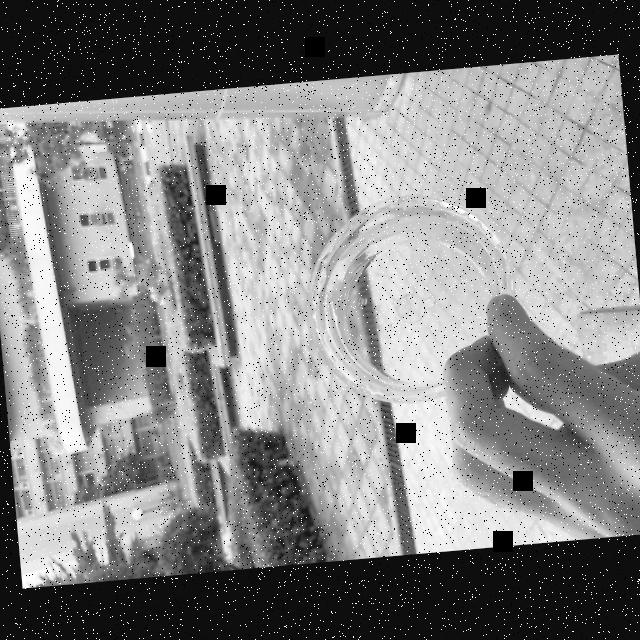plastic_cup_lid: (280, 178, 524, 418)
